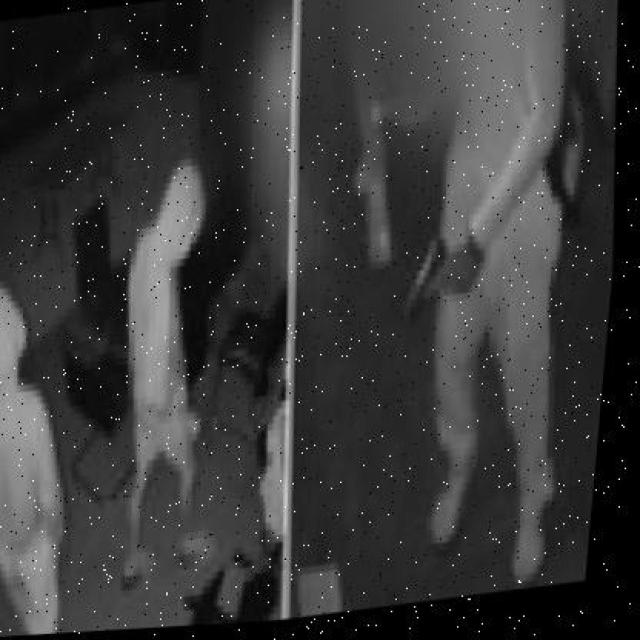weapon: (398, 237, 467, 325)
